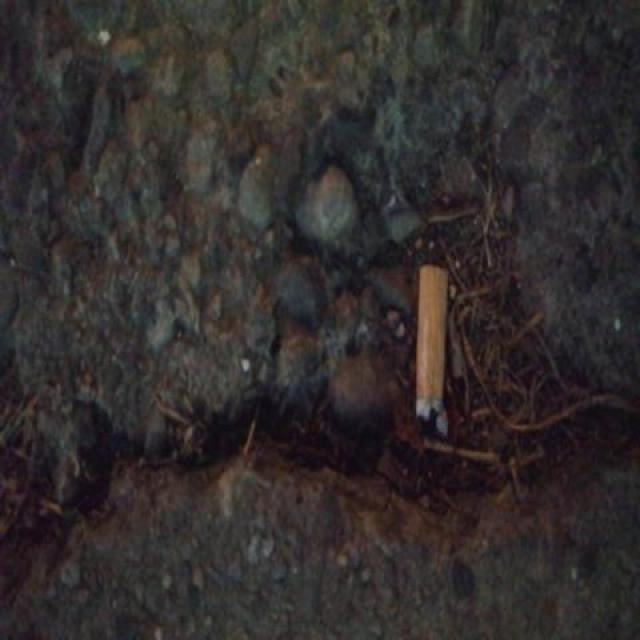non-organic waste: (411, 259, 453, 442)
